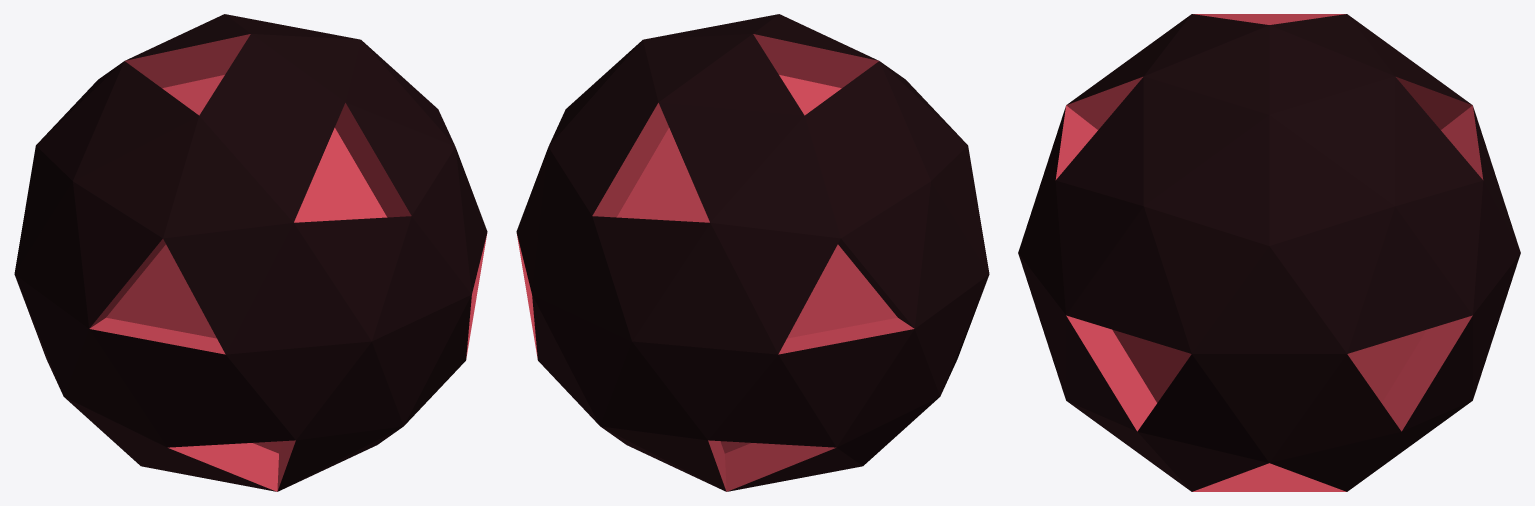
File: PlayerFigure.fbx
3 views of the same model, side by side, from view 1: azimuth 30°, elevation 25°; view 2: azimuth 150°, elevation 25°; view 3: azimuth 270°, elevation 25° (orthographic). The views are drawn at different scales.
Visible parts, largest first — view 1: Icosphere; view 2: Icosphere; view 3: Icosphere.
Part boxes in pixels (x1,y1,x2,y2): Icosphere: (14, 14, 487, 491); Icosphere: (516, 14, 989, 491); Icosphere: (1018, 14, 1520, 491).
Size of the model in its own units: 190 by 200 by 200.
